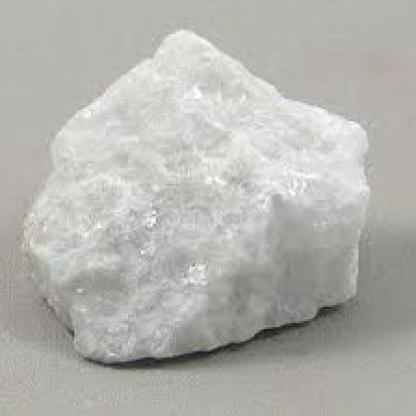Metamorphic_Marble: (20, 25, 368, 362)
